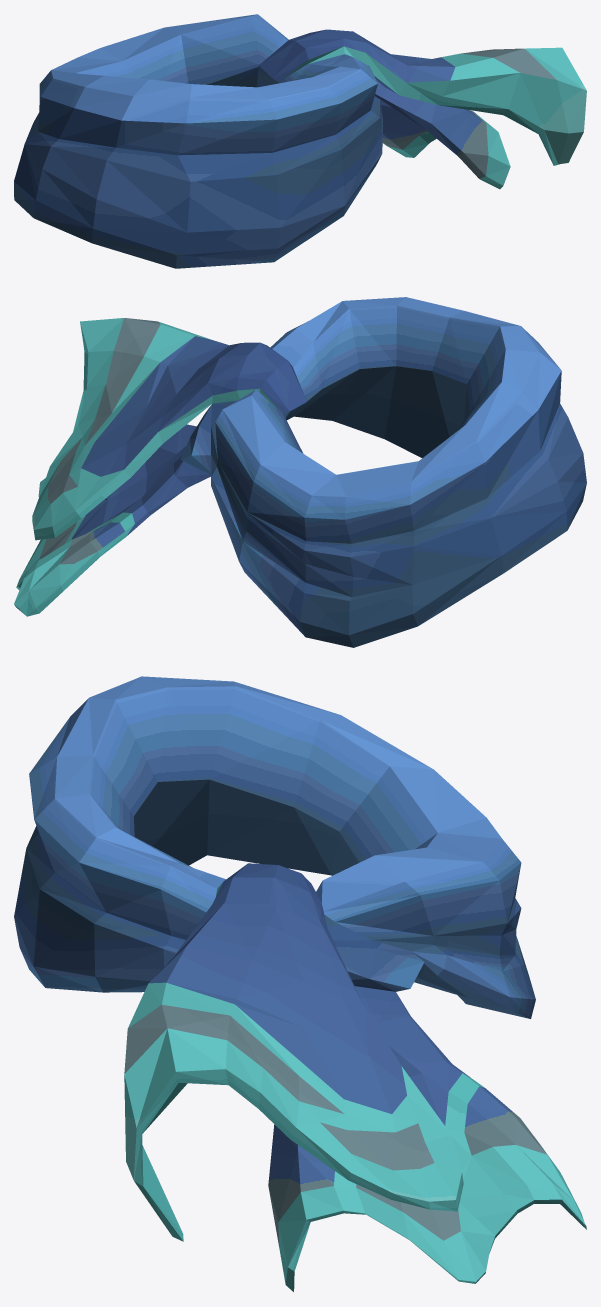
File: CharSkyKid_Neck_OceanScarf.glb
The picture shows the model from 3 angles, top to bottom: view 1: azimuth 30°, elevation 25°; view 2: azimuth 150°, elevation 25°; view 3: azimuth 270°, elevation 25°; orthographic projection. The views are drawn at different scales.
Visible parts, largest first — view 1: CharSkyKid_Neck_OceanScarf; view 2: CharSkyKid_Neck_OceanScarf; view 3: CharSkyKid_Neck_OceanScarf.
Boxes of the visible parts, bbox=[...] form: CharSkyKid_Neck_OceanScarf: bbox=[14, 14, 586, 268]; CharSkyKid_Neck_OceanScarf: bbox=[14, 297, 586, 647]; CharSkyKid_Neck_OceanScarf: bbox=[14, 676, 586, 1291].
Bounding box in the file's own units: 3.5 × 1.63 × 2.41.
Materials: 1 (1 with a texture image).
